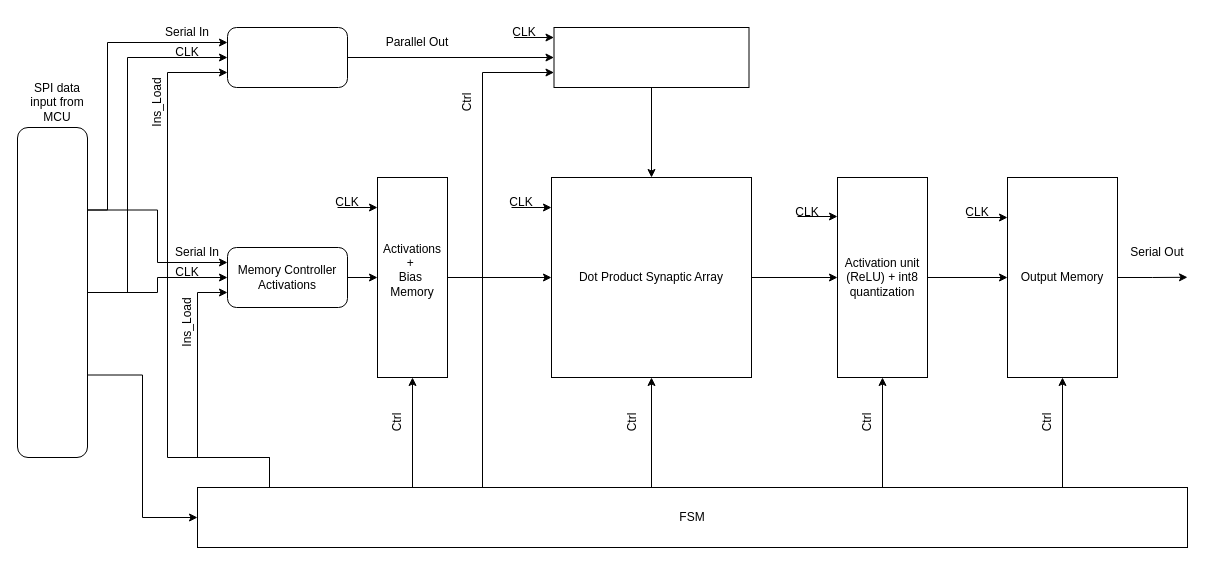
This 1213x565 diagram has some shape labels left out. Here are the shapes that lost their labels. From the top down, the centre of each, then its label:
pixel 287 57: Memory Controller Weights
pixel 651 57: Weights Memory
pixel 52 292: DATA IN CLK CS
